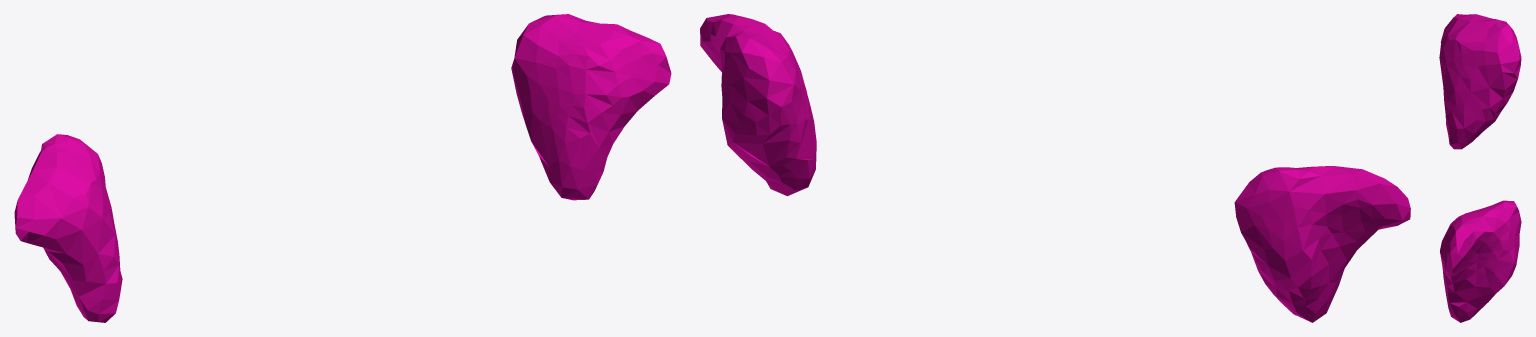
The model's file is 196-PPt-posterior parietal area-('1.0000', '0.0000', '0.7294').obj.
3 views of the same model, side by side, from view 1: azimuth 30°, elevation 25°; view 2: azimuth 150°, elevation 25°; view 3: azimuth 270°, elevation 25° (orthographic). The views are drawn at different scales.
Size of the model in its own units: 168 by 40.24 by 24.74.
